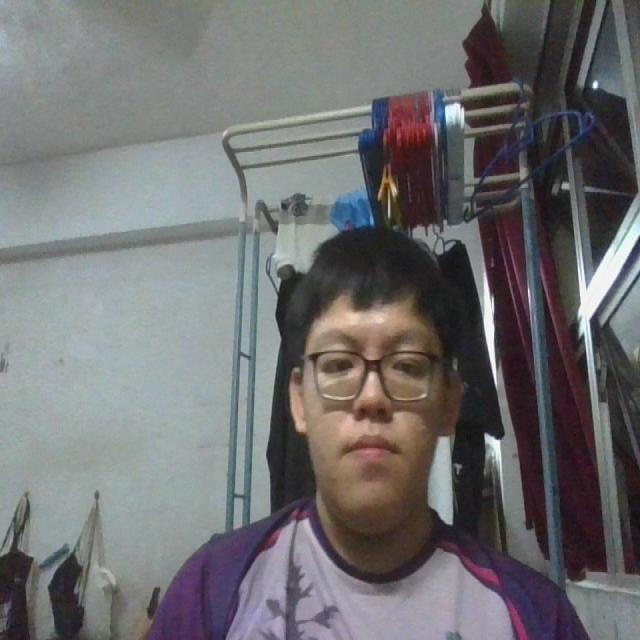person_without_labcoat: (149, 228, 588, 639)
